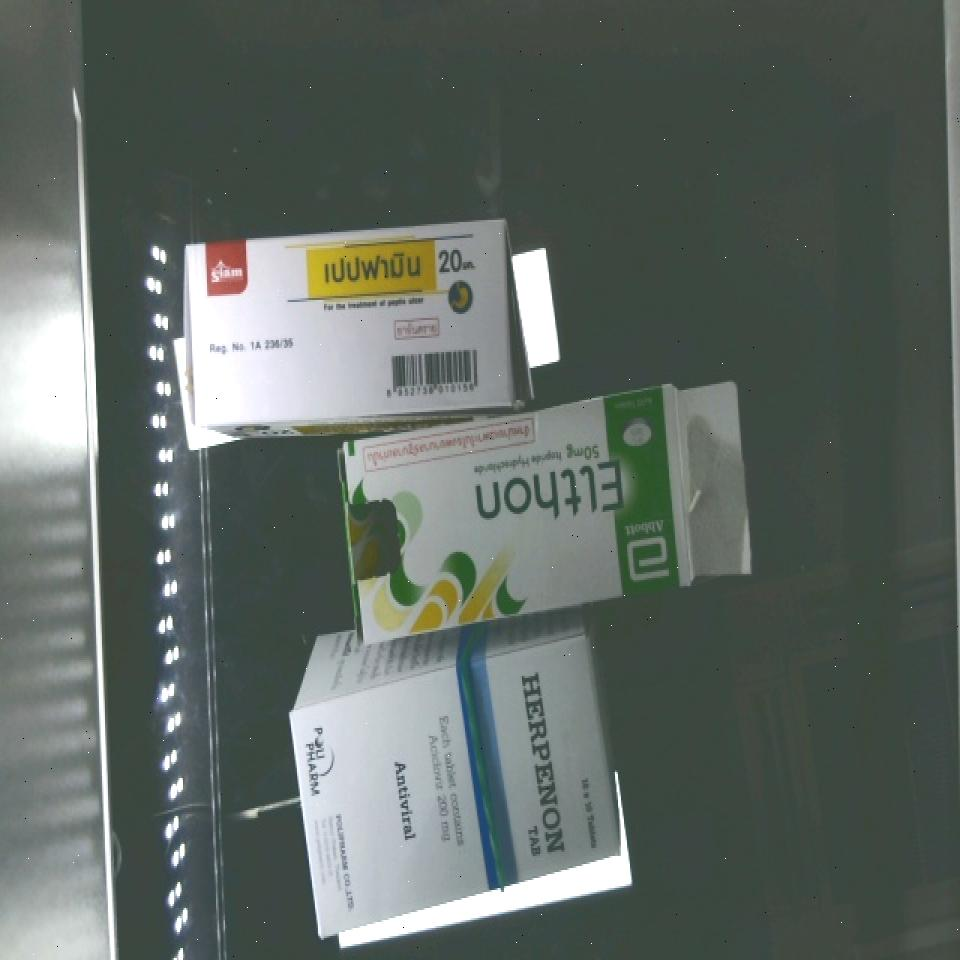medicine_box: (326, 361, 769, 639), (257, 624, 645, 936), (177, 217, 524, 424)
medicine_label_obb: (494, 645, 589, 879), (447, 442, 642, 553), (295, 232, 484, 303)
